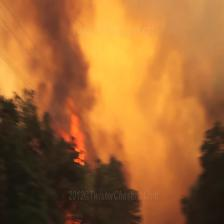fire: (56, 99, 101, 224)
smoke: (114, 0, 224, 224), (2, 1, 148, 164)
